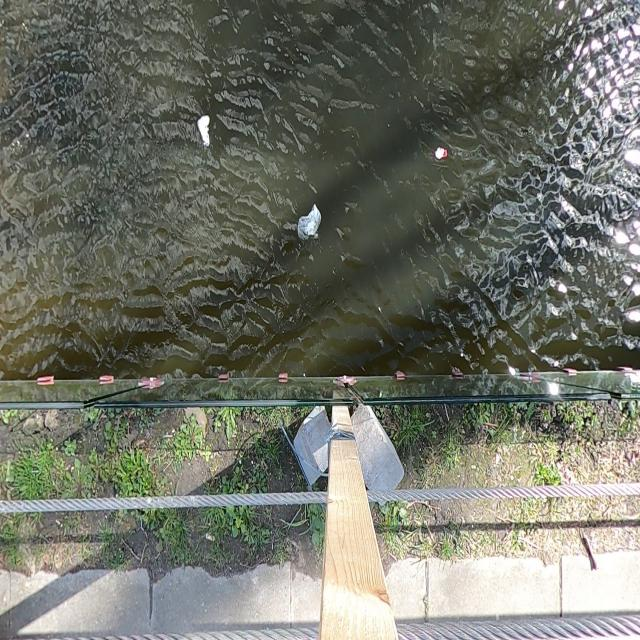Sac plastique: (292, 200, 326, 246), (192, 107, 215, 155)
